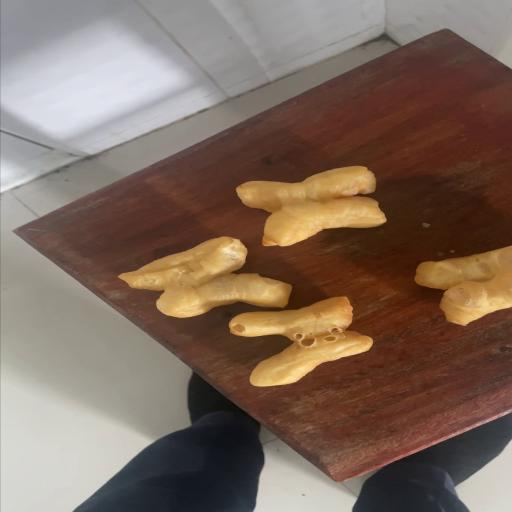street_golden_defect: (225, 298, 373, 385)
street_golden_good: (236, 167, 385, 246), (416, 245, 512, 324)
